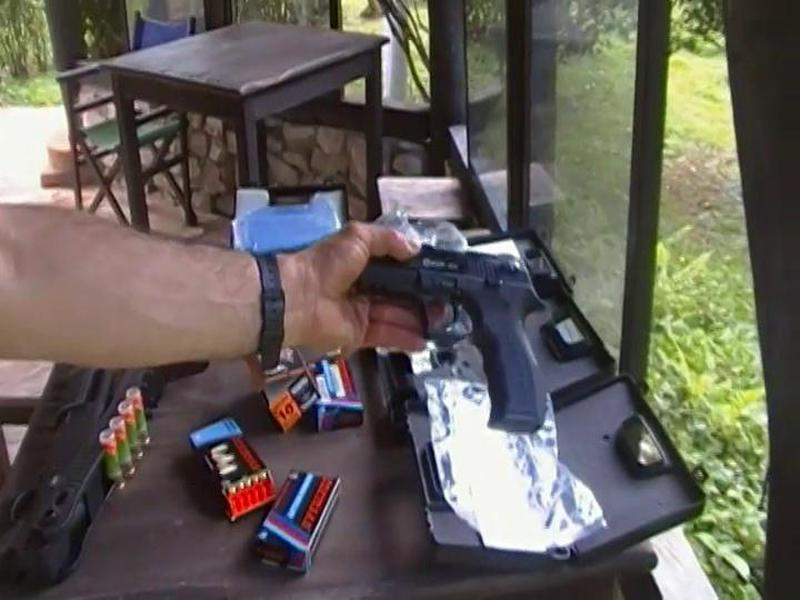Pistola: (345, 227, 568, 439)
